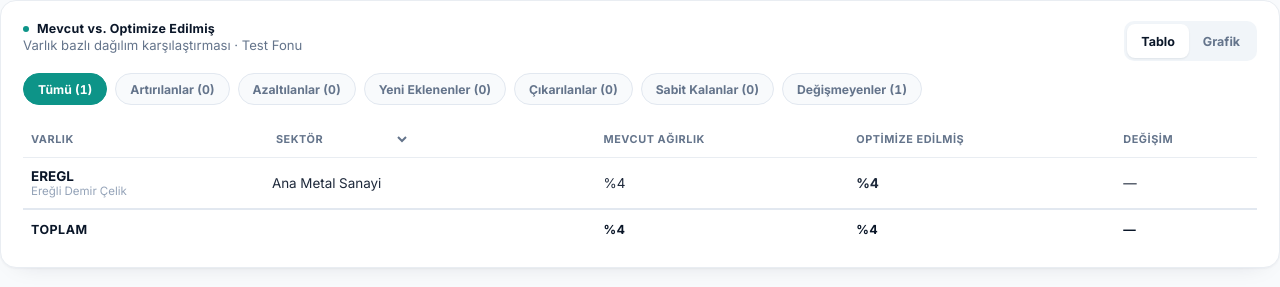
Test case: AssetComparisonPanel › kullanıcı Koru ile seçmediği ama ağırlığı değişmeyen hisse Değişmeyenler'de görünür, Sabit Kalanlar'da görünmez
Click the tab "Değişmeyenler (1)": (852, 89) [782, 73, 922, 105]
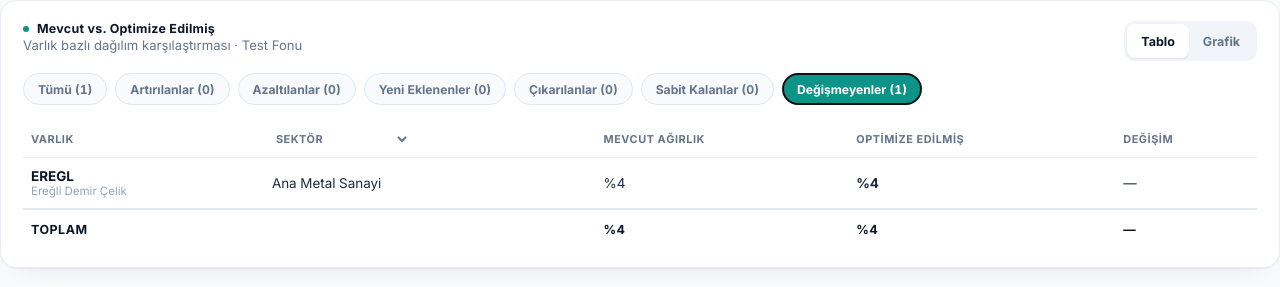
Expected: the text "EREGL" is shown, [31, 168, 74, 184]
Click the tab "Sabit Kalanlar (0)": (707, 89) [641, 73, 774, 105]
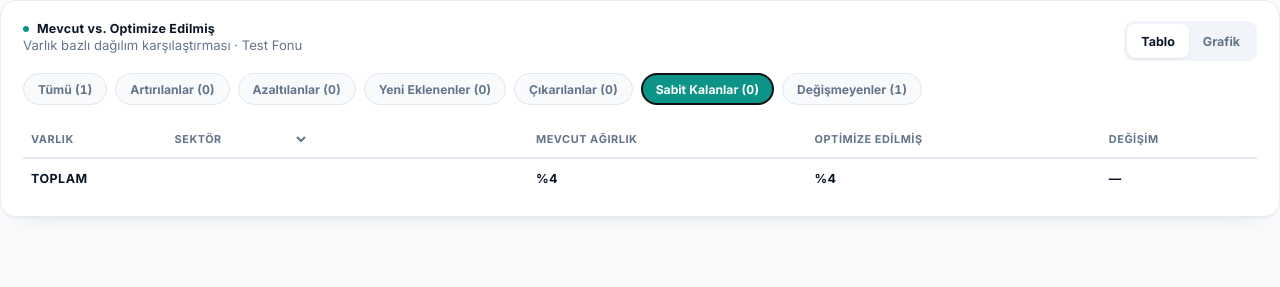
Now the text "EREGL" is gone
